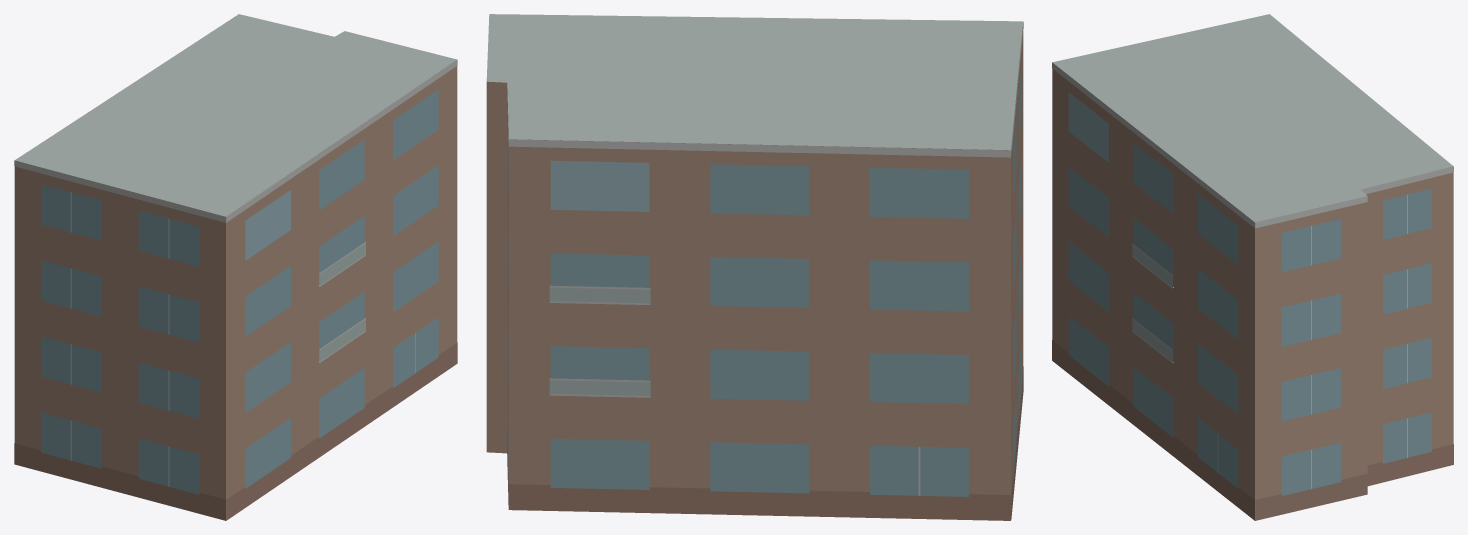
Rendered from survey-upis-32946153.glb.
3 renders of one model, left to right at view 1: azimuth 30°, elevation 25°; view 2: azimuth 150°, elevation 25°; view 3: azimuth 270°, elevation 25°, orthographic. The views are drawn at different scales.
Parts seen in each view (by area): view 1: survey-upis-32946153.tmp; view 2: survey-upis-32946153.tmp; view 3: survey-upis-32946153.tmp.
Boxes of the visible parts, x1,y1,x2,y2 form: survey-upis-32946153.tmp: (14, 14, 457, 520); survey-upis-32946153.tmp: (486, 14, 1023, 520); survey-upis-32946153.tmp: (1052, 14, 1453, 520).
Bounding box in the file's own units: 18.37 × 12.25 × 14.95.
